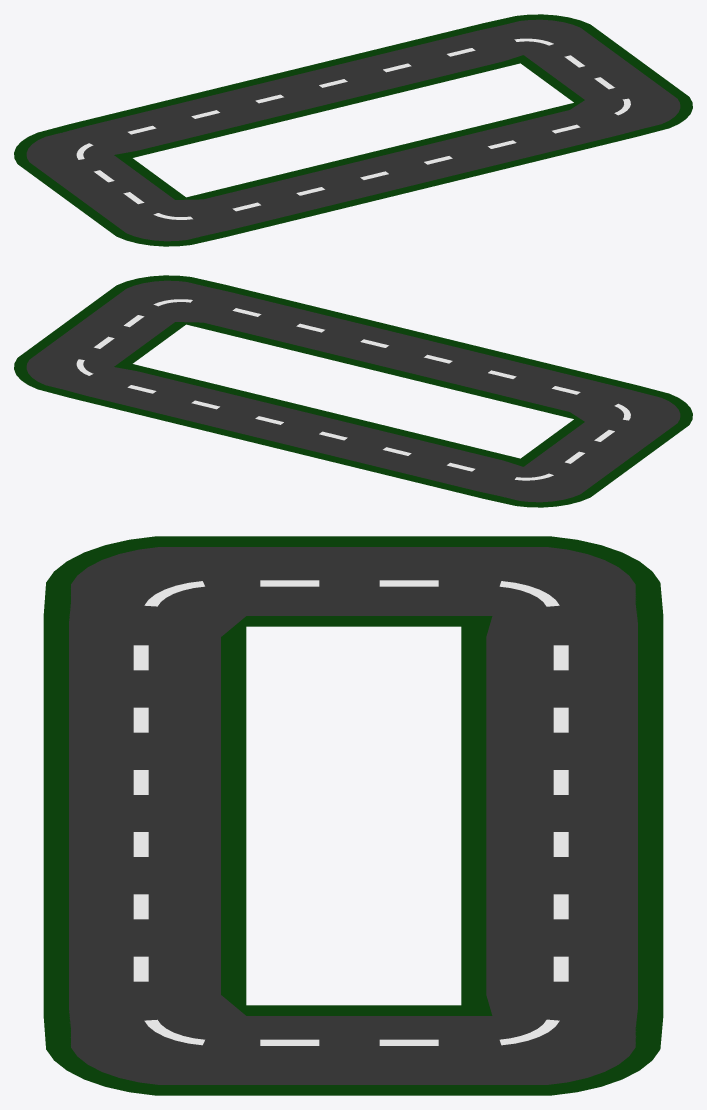
The model's file is simple_track.glb.
The picture shows the model from 3 angles, top to bottom: view 1: azimuth 30°, elevation 25°; view 2: azimuth 150°, elevation 25°; view 3: azimuth 270°, elevation 25°; orthographic projection. The views are drawn at different scales.
Parts seen in each view (by area): view 1: simple_track; view 2: simple_track; view 3: simple_track.
Part boxes in pixels (left/top/right/bottom): simple_track: left=14, top=14, right=692, bottom=246; simple_track: left=14, top=275, right=692, bottom=507; simple_track: left=43, top=536, right=663, bottom=1095.
Size of the model in its own units: 9.52 by 0.0223 by 4.46.
Materials: 1 (1 with a texture image).
